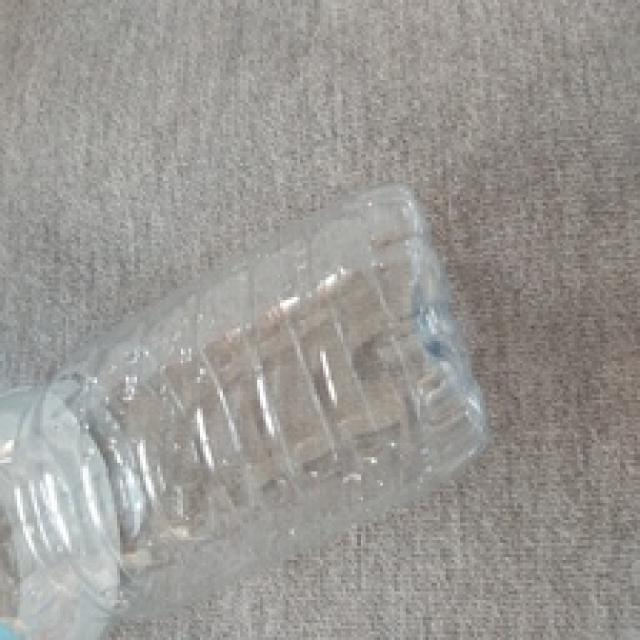Plastic: (0, 181, 492, 640)
